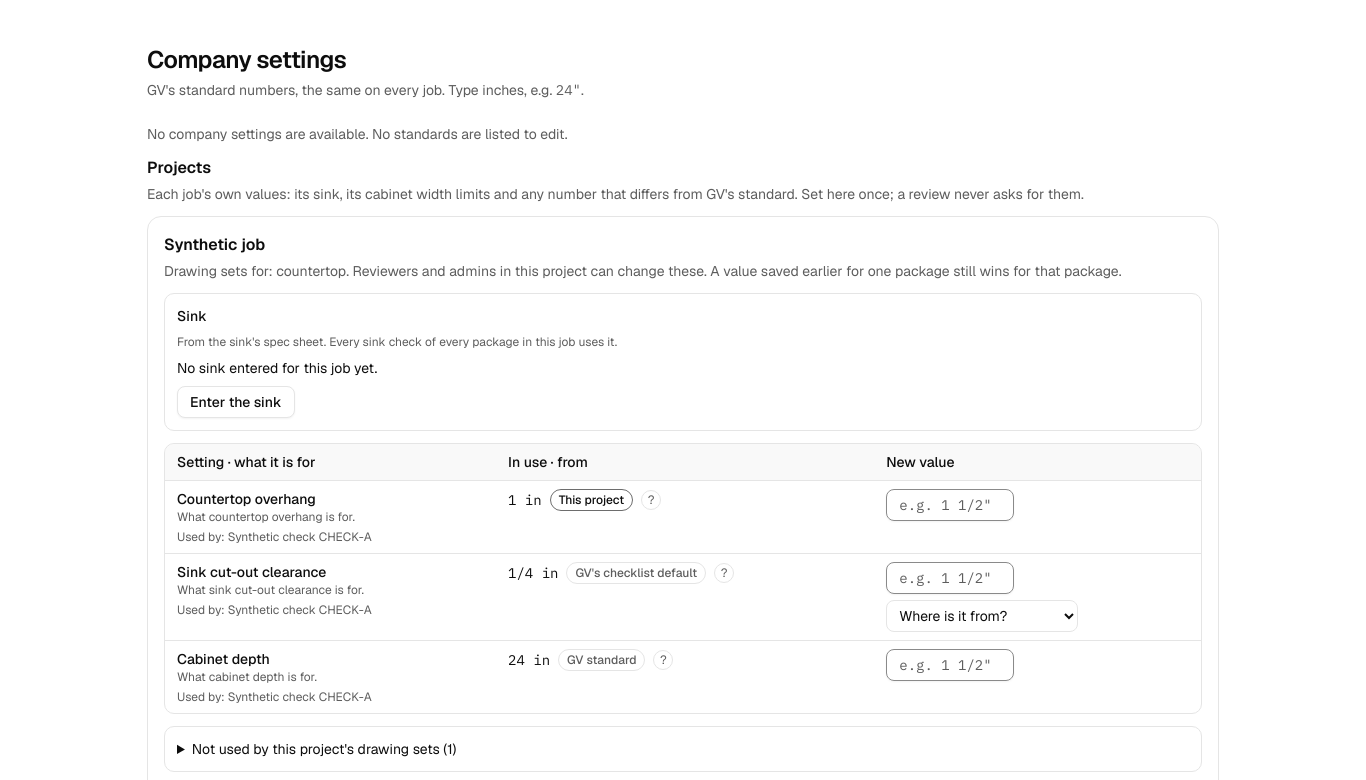
Test: Company settings → Projects › saves only the typed values, with the source the person picked where there are several
Type " 1/8\" " into the field named "New value for Sink cut-out clearance" at [950, 578], box [886, 562, 1014, 594]
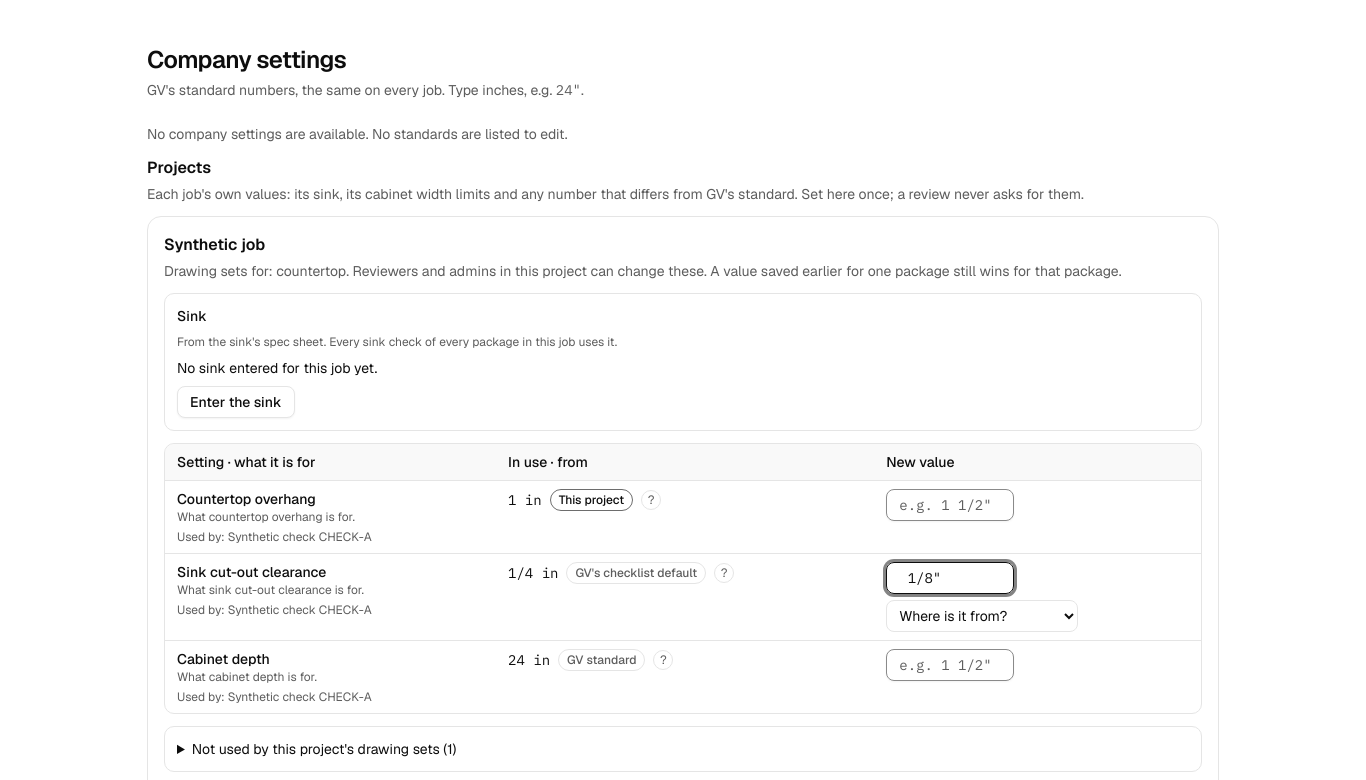
Select "Fabricator" in the dropdown named "Where Sink cut-out clearance comes from" at [982, 616], box [886, 600, 1078, 632]
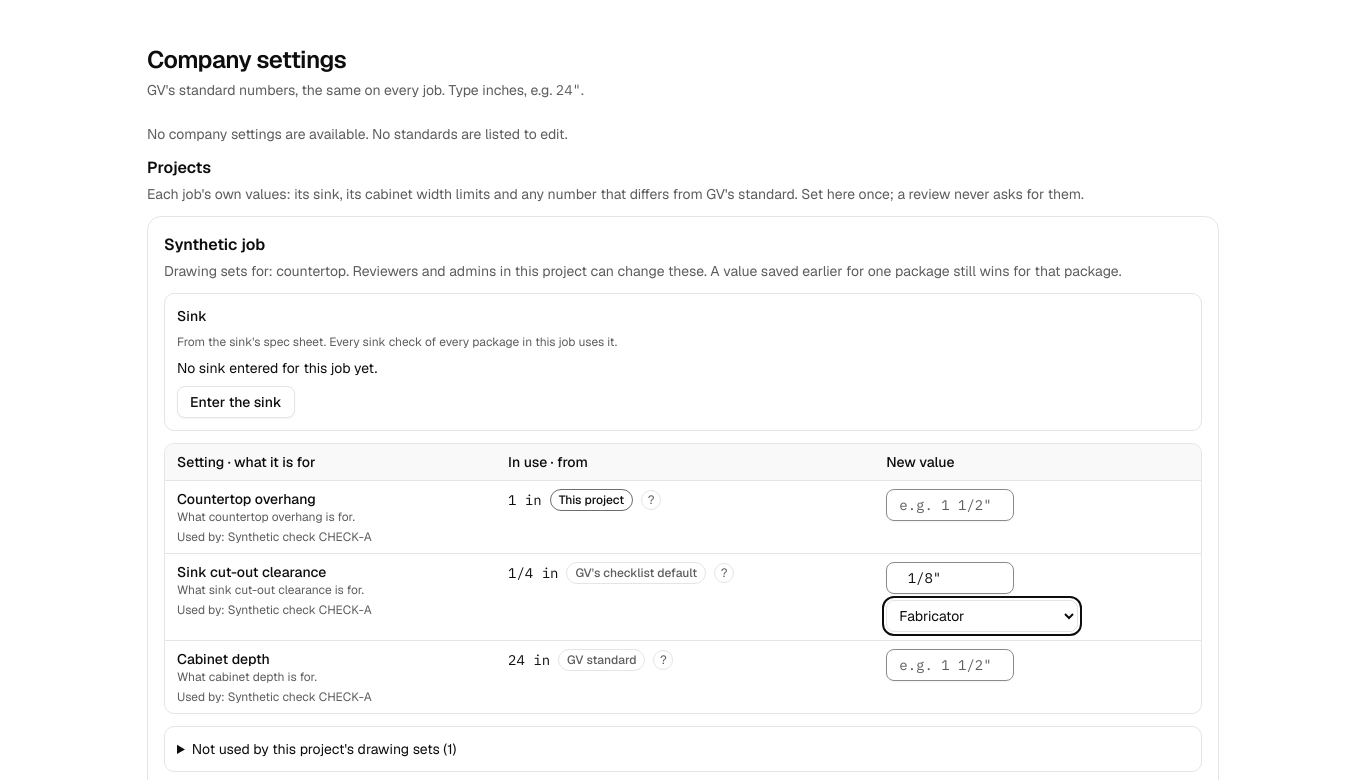
Type "1 1/2\"" into the field named "New value for Countertop overhang" at [950, 505], box [886, 489, 1014, 521]
(page scrolled)
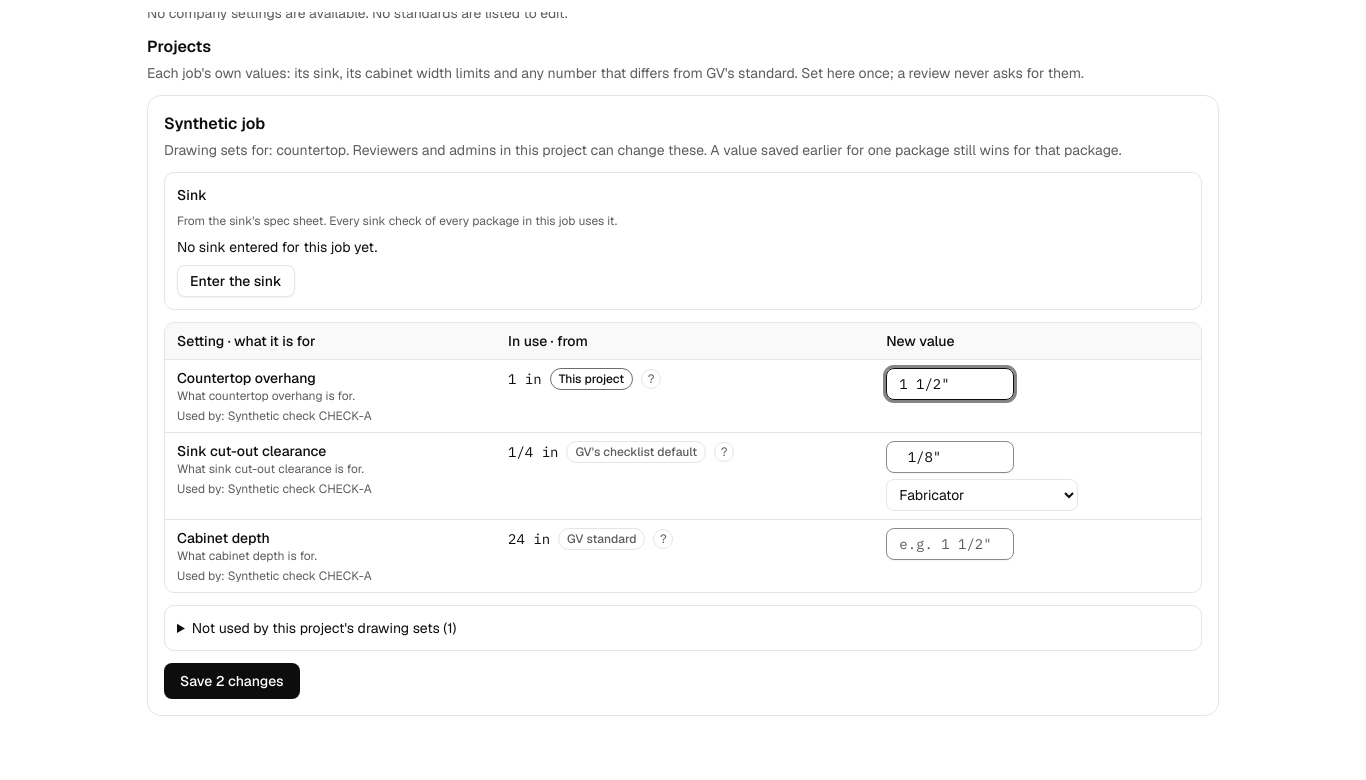
Click the button "Save 2 changes" at [232, 681], box [164, 663, 300, 699]
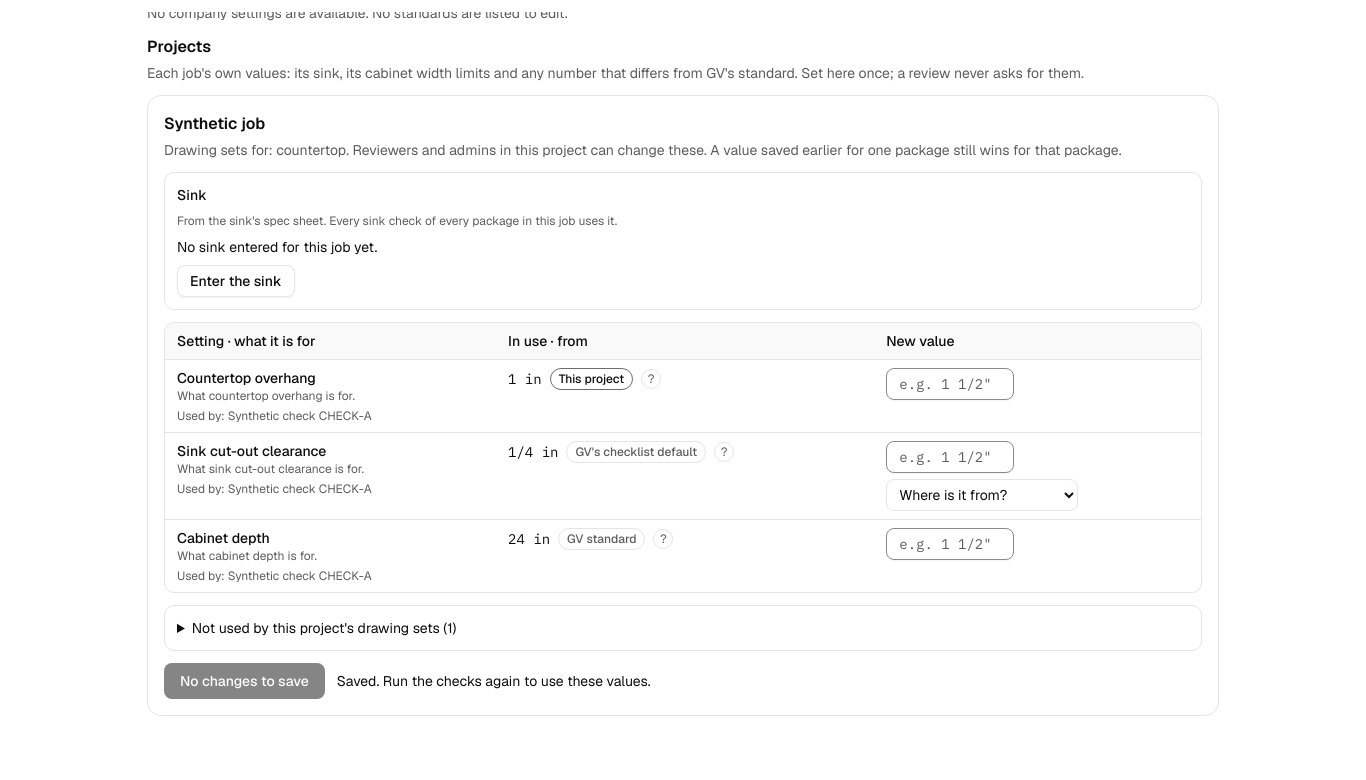
Now the text "Saved. Run the checks again to use these values." is shown, box [337, 671, 651, 691]
